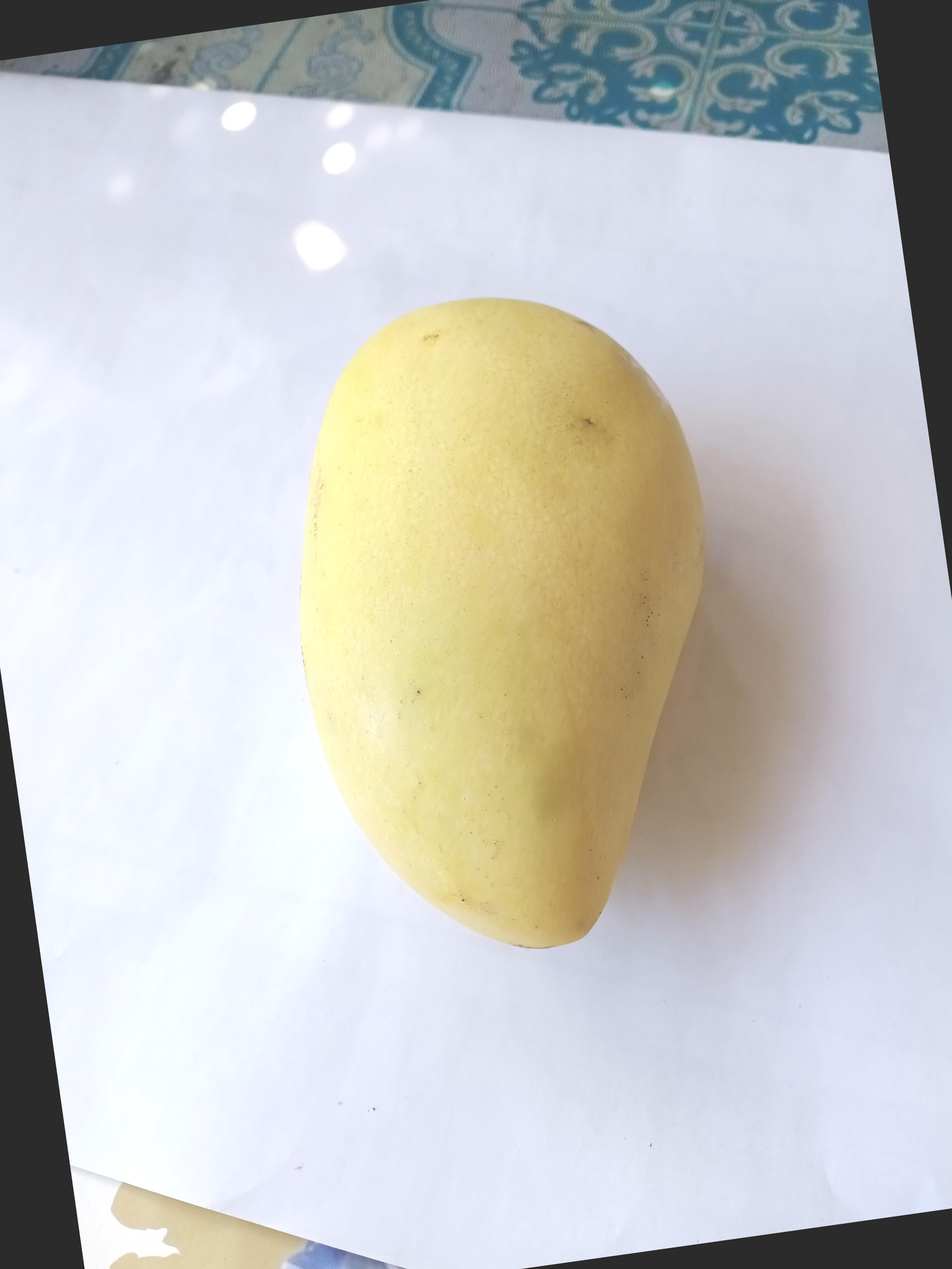Mango Ripe: (121, 301, 696, 1138)
